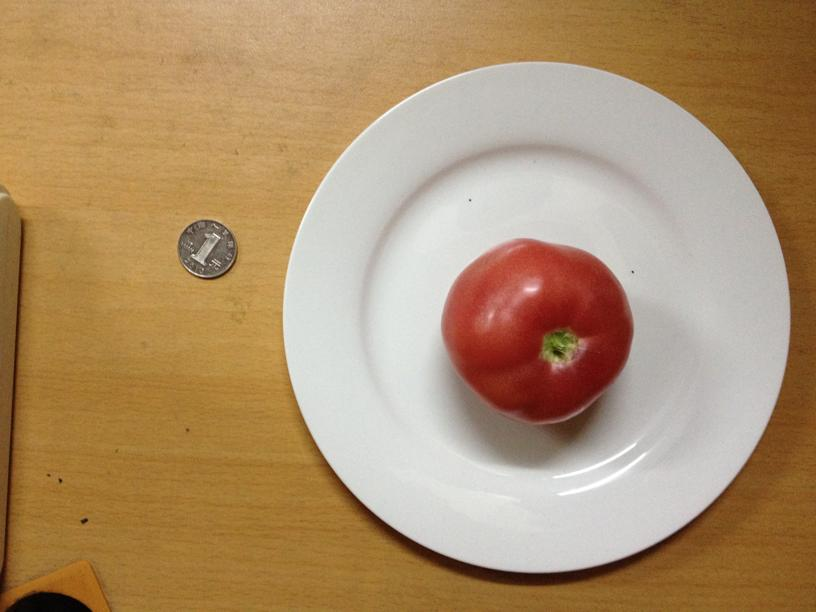coin: (173, 218, 239, 278)
tomato: (445, 240, 635, 427)
